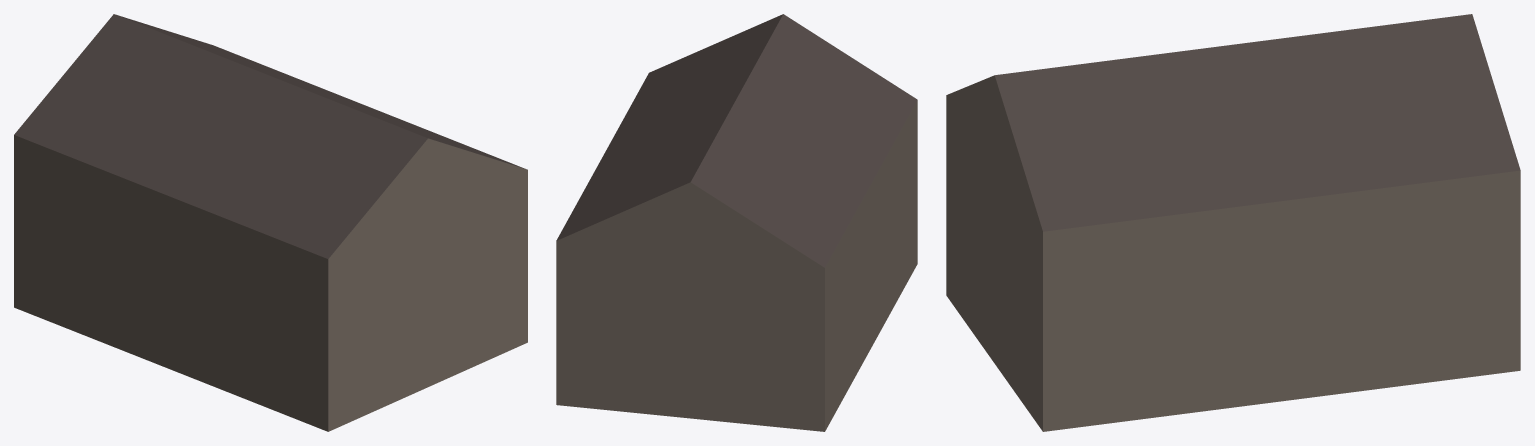
3 views of the same model, side by side, from view 1: azimuth 30°, elevation 25°; view 2: azimuth 150°, elevation 25°; view 3: azimuth 270°, elevation 25° (orthographic). The views are drawn at different scales.
Visible parts, largest first — view 1: HP-w1200835420; view 2: HP-w1200835420; view 3: HP-w1200835420.
Boxes of the visible parts, <box> form: HP-w1200835420: <box>14,14,527,431</box>; HP-w1200835420: <box>556,14,917,431</box>; HP-w1200835420: <box>946,14,1520,431</box>.
Size of the model in its own units: 12.71 by 8.64 by 15.6.
